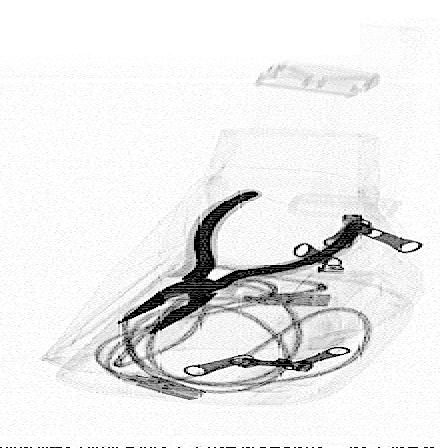Pliers: (113, 188, 371, 336)
